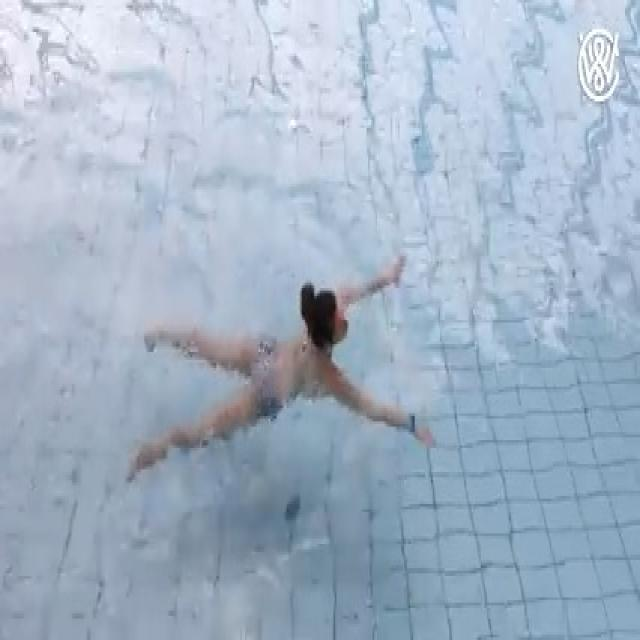Swimming: (112, 241, 432, 500)
